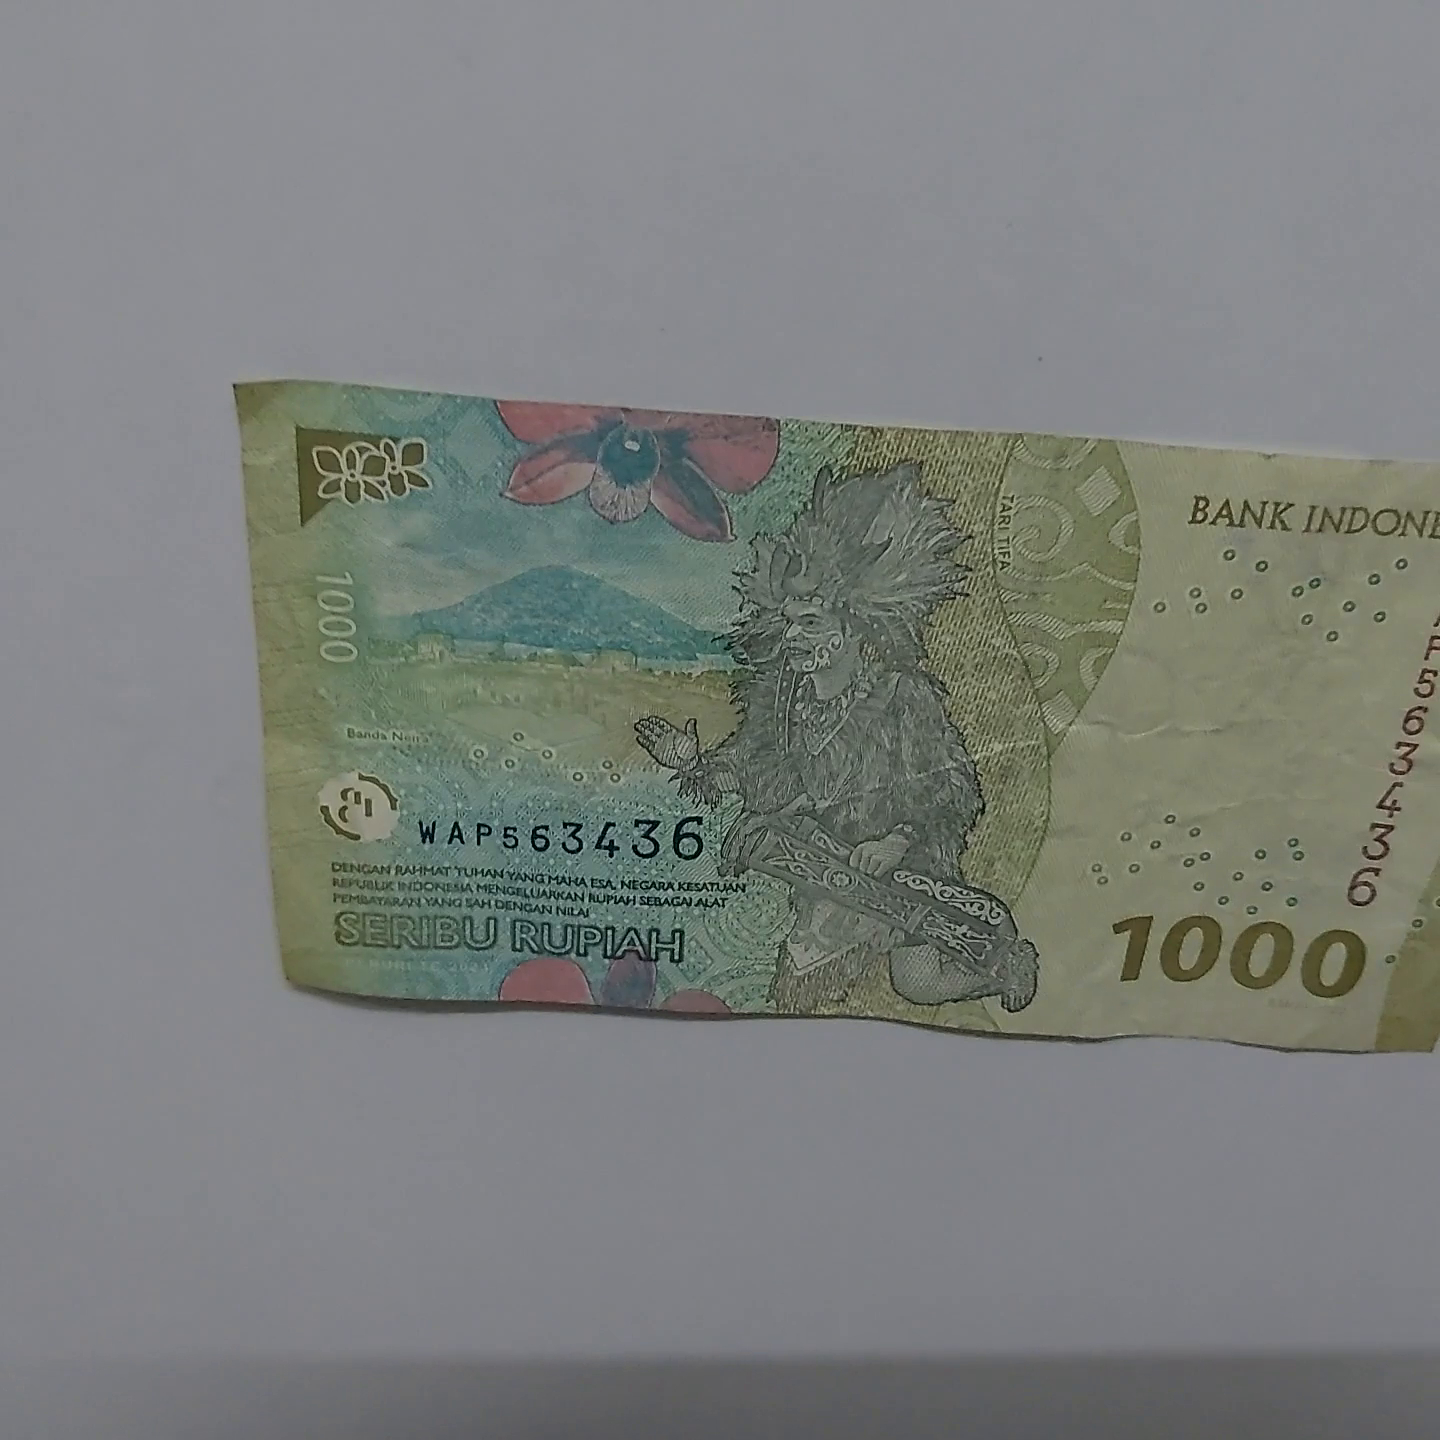1k: (187, 363, 1440, 1077)
